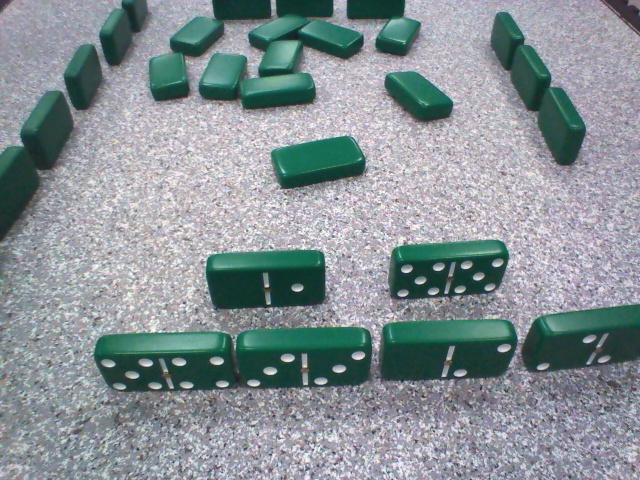A: (272, 133, 369, 188), (379, 67, 455, 124), (296, 14, 364, 59), (166, 11, 227, 52), (245, 8, 309, 47), (145, 49, 192, 101), (374, 12, 425, 59), (243, 76, 321, 105), (199, 50, 243, 98), (261, 34, 303, 74)
C: (1, 141, 40, 246), (18, 89, 77, 156), (57, 44, 109, 108), (92, 7, 141, 63), (114, 1, 157, 30)
D: (530, 86, 589, 169), (500, 41, 557, 119), (481, 13, 528, 71)
E: (87, 330, 235, 397), (375, 319, 519, 385), (234, 326, 374, 391), (519, 300, 640, 375), (382, 237, 508, 303), (205, 252, 328, 311)
F: (203, 1, 277, 21), (275, 1, 337, 24), (347, 1, 407, 24)
